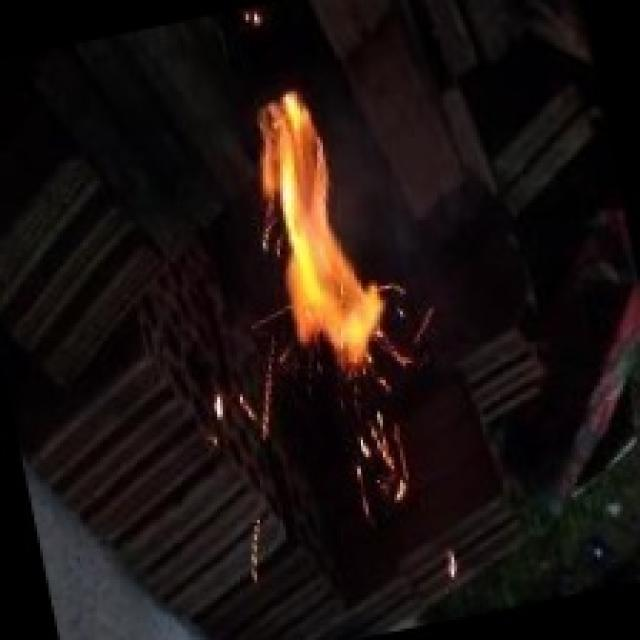fire: (206, 86, 431, 460)
